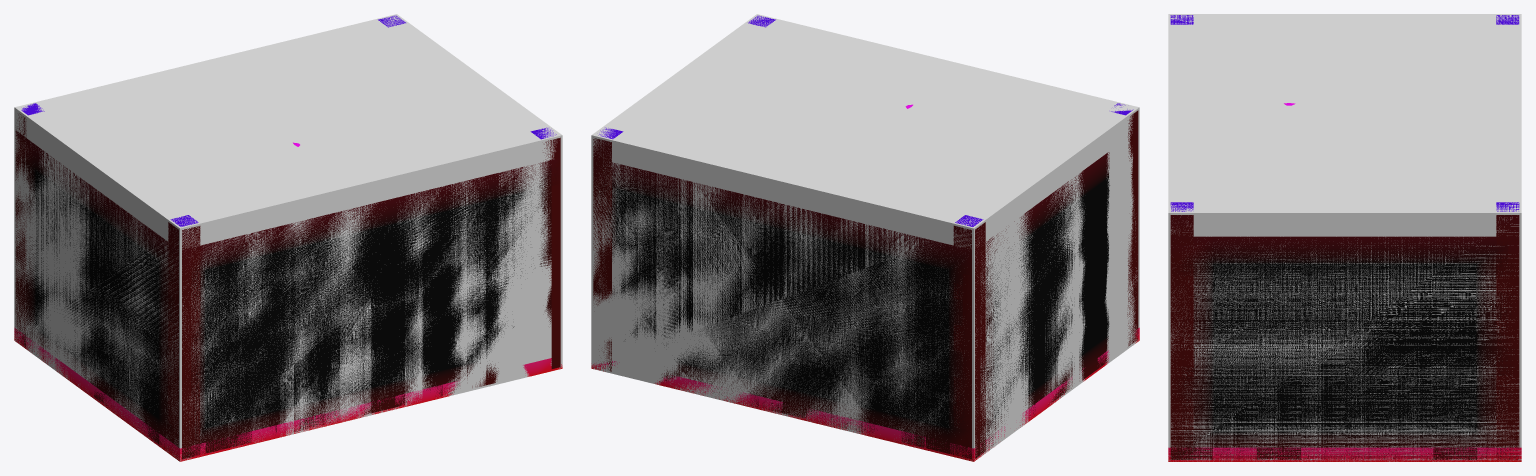
The model's file is prop_rock_bin.fbx.
The picture shows the model from 3 angles, left to right: view 1: azimuth 30°, elevation 25°; view 2: azimuth 150°, elevation 25°; view 3: azimuth 270°, elevation 25°; orthographic projection. The views are drawn at different scales.
Parts seen in each view (by area): view 1: COL_0, prop_rock_bin; view 2: COL_0, prop_rock_bin; view 3: COL_0, prop_rock_bin.
Part boxes in pixels (<box>): COL_0: <box>14,14,562,461</box>; prop_rock_bin: <box>14,15,562,461</box>; COL_0: <box>591,14,1139,461</box>; prop_rock_bin: <box>591,15,1139,461</box>; COL_0: <box>1168,14,1521,461</box>; prop_rock_bin: <box>1168,15,1521,461</box>.
Size of the model in its own units: 0.6 by 0.352 by 0.45.
